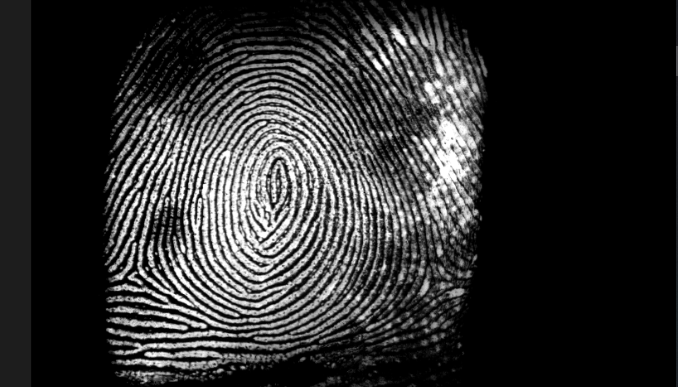nucelo: (266, 159, 287, 209)
verticilo: (415, 255, 458, 294), (118, 245, 153, 290)
